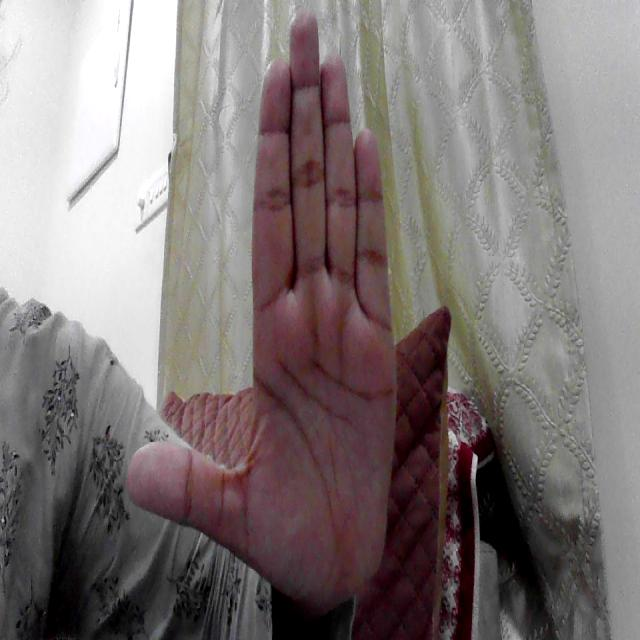Ardhachandra: (124, 3, 414, 604)
